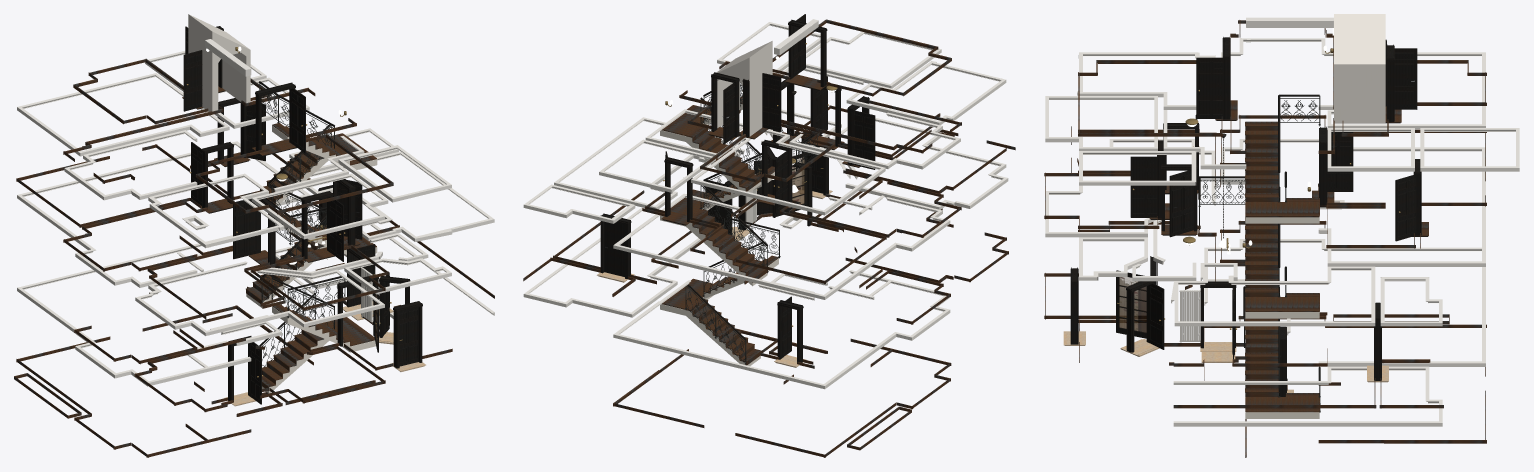
Rendered from EKLER.glb.
The picture shows the model from 3 angles, left to right: view 1: azimuth 30°, elevation 25°; view 2: azimuth 150°, elevation 25°; view 3: azimuth 270°, elevation 25°; orthographic projection. The views are drawn at different scales.
Visible parts, largest first — view 1: M3C_kapi_ustu, M3C_sag_yan, M3C_sol_yan, M1_kartonpiyer_255, M1_kartonpiyer_211, M2_K0_sahanlik, M3_02_kanat, M1_kartonpiyer_071, A04_F29_sol_kiris, M1_kartonpiyer_019, M1_supurgelik_189, M2_K2_sahanlik (+1 smaller); view 2: M3C_kapi_ustu, M1_kartonpiyer_255, M3_11_kanat, M1_kartonpiyer_211, M3C_sol_yan, M2_K0_sahanlik, M1_kartonpiyer_071, M1_kartonpiyer_212, M2_K2_sahanlik, M3_02_kanat, A04_F29_sol_kiris, M1_kartonpiyer_256; view 3: M3C_sag_yan, M3C_kapi_ustu, M1_kartonpiyer_232, M1_kartonpiyer_102, M2_K2_sahanlik, M2_K1_sahanlik, M3G_Floral_cam, M2_K0_sahanlik, A04_F29_sol_kiris, M3_03_kanat, M1_supurgelik_008, M3_06_kanat (+19 smaller).
Boxes of the visible parts, x1,y1,x2,y2 form: M3C_kapi_ustu: (188,14,250,59); M3C_sag_yan: (222,50,250,103); M3C_sol_yan: (188,42,220,111); M1_kartonpiyer_255: (18,235,232,289); M1_kartonpiyer_211: (18,141,236,196); M2_K0_sahanlik: (322,317,374,346); M3_02_kanat: (183,50,202,111); M1_kartonpiyer_071: (18,73,155,108); A04_F29_sol_kiris: (205,39,251,76); M1_kartonpiyer_019: (80,124,190,156); M1_supurgelik_189: (87,109,223,144); M2_K2_sahanlik: (316,133,376,165); M3C_kapi_ustu: (716,41,772,84); M1_kartonpiyer_255: (613,334,824,389); M3_11_kanat: (604,221,624,276); M1_kartonpiyer_211: (613,245,824,299); M3C_sol_yan: (740,68,772,136); M2_K0_sahanlik: (662,278,712,309); M1_kartonpiyer_071: (691,179,824,215); M1_kartonpiyer_212: (614,245,824,299); M2_K2_sahanlik: (661,105,710,135); M3_02_kanat: (762,73,781,131); A04_F29_sol_kiris: (774,19,818,55); M1_kartonpiyer_256: (614,335,824,388); M3C_sag_yan: (1334,64,1385,123); M3C_kapi_ustu: (1334,14,1385,64); M1_kartonpiyer_232: (1173,421,1442,426); M1_kartonpiyer_102: (1174,321,1375,326); M2_K2_sahanlik: (1245,202,1319,217); M2_K1_sahanlik: (1245,297,1319,311); M3G_Floral_cam: (1119,277,1146,332); M2_K0_sahanlik: (1245,397,1319,412); A04_F29_sol_kiris: (1246,17,1333,27); M3_03_kanat: (1196,57,1222,118); M1_supurgelik_008: (1173,405,1376,408); M3_06_kanat: (1130,156,1156,217).
Size of the model in its own units: 13.36 by 12.51 by 14.07.
21 materials, 9 textured.
